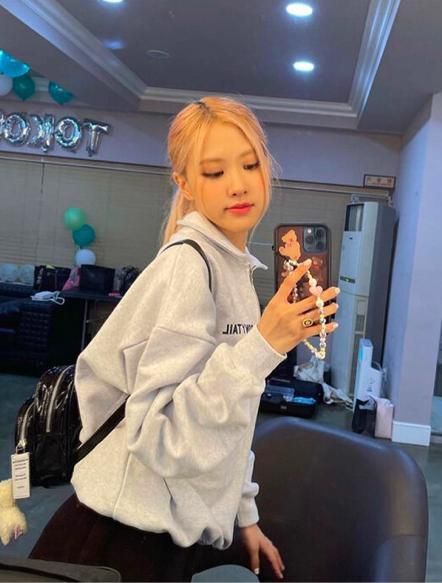sweater: (28, 211, 330, 563)
